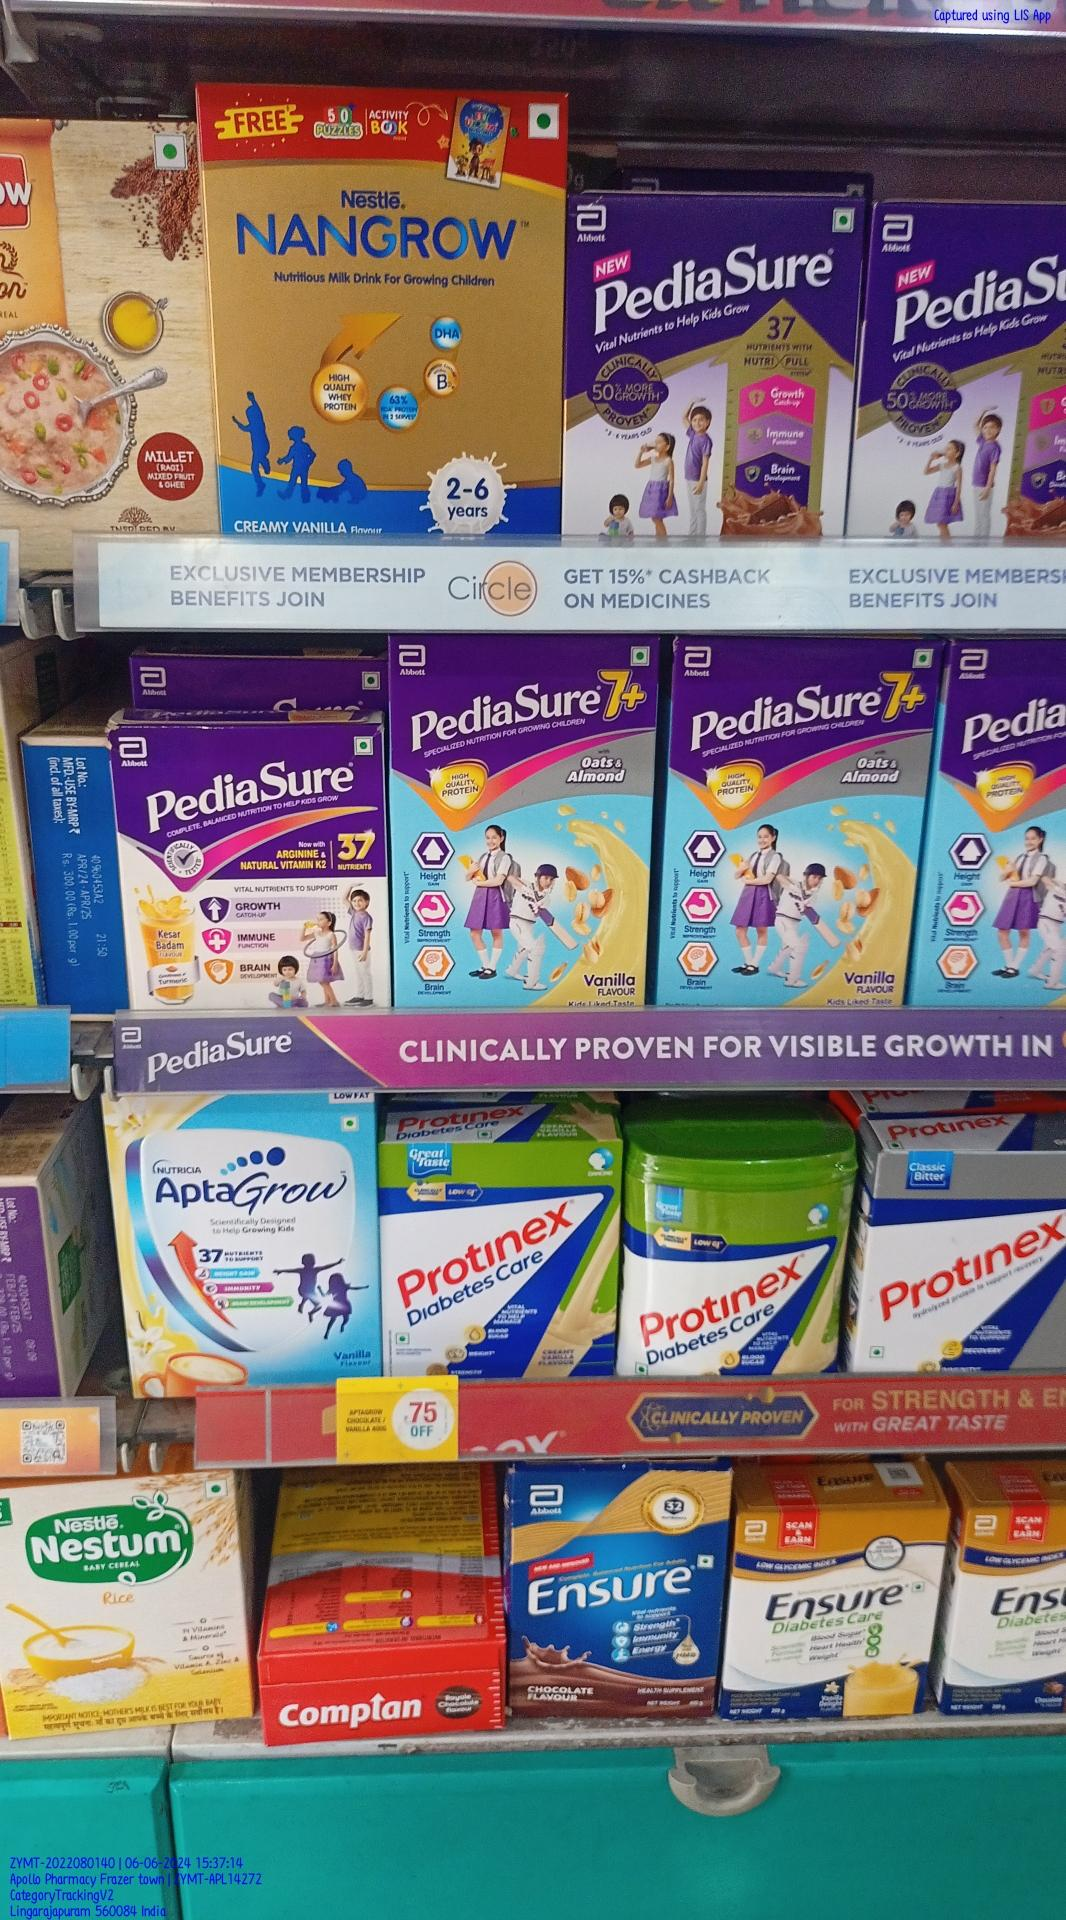PEDIASURE_CHOCOLATE_500_G_PACK: (567, 194, 853, 542), (861, 203, 1066, 534)
